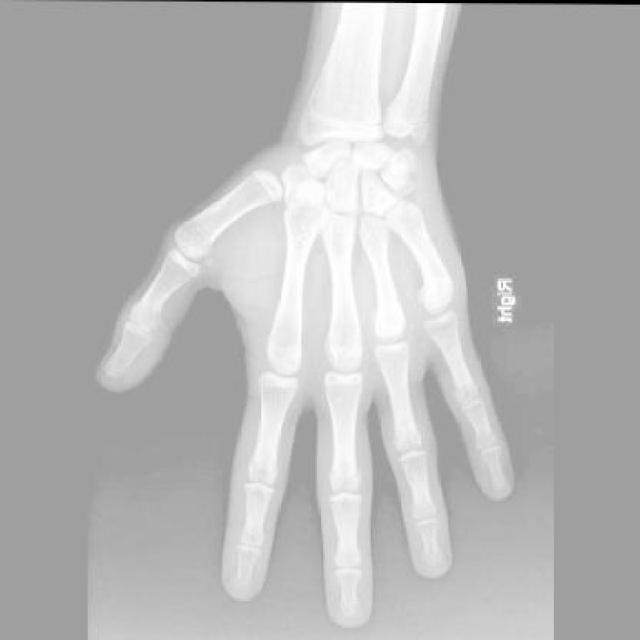Fracture: (419, 271, 456, 304)
